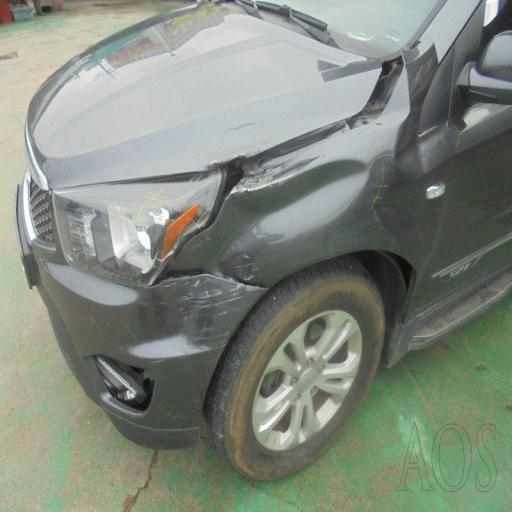broken: (145, 140, 286, 293)
scratch: (180, 288, 233, 355)
